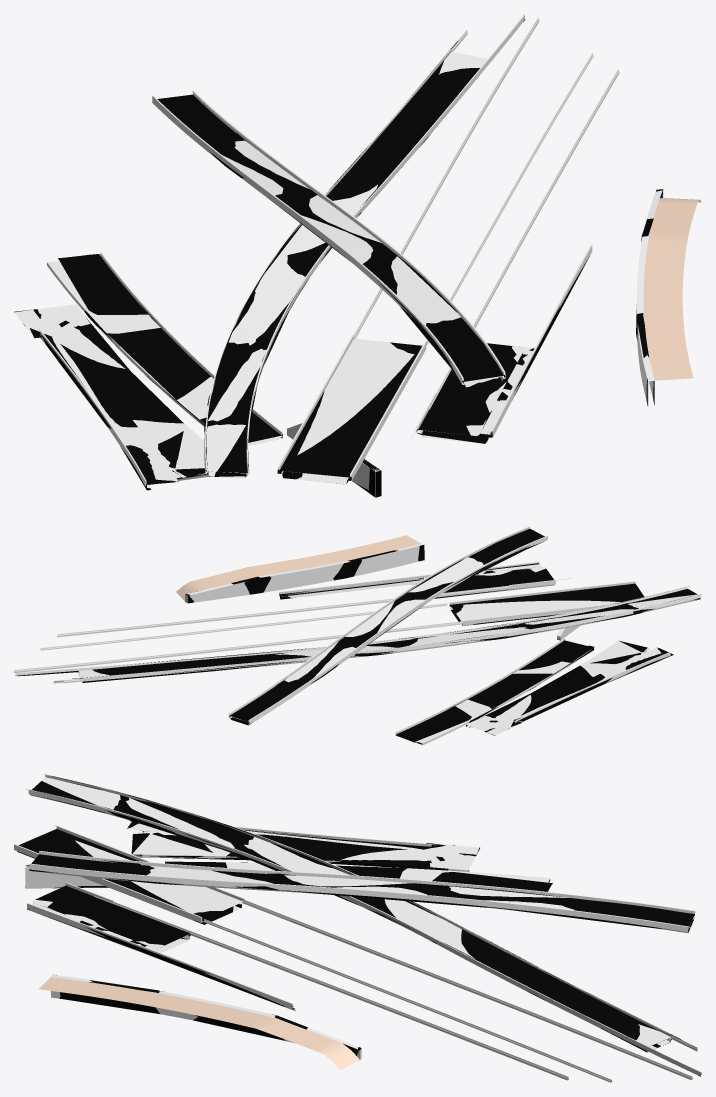
The model's file is interchangeb.dae.
3 renders of one model, top to bottom at view 1: azimuth 30°, elevation 25°; view 2: azimuth 150°, elevation 25°; view 3: azimuth 270°, elevation 25°, orthographic. The views are drawn at different scales.
Visible parts, largest first — view 1: Colmesh-1, interchangeb_a1000, interchangeb_a3000; view 2: Colmesh-1, interchangeb_a1000, interchangeb_a3000; view 3: Colmesh-1, interchangeb_a1000, interchangeb_a3000.
Part boxes in pixels (bbox=[...]): Colmesh-1: bbox=[15, 14, 701, 497]; interchangeb_a1000: bbox=[14, 19, 662, 497]; interchangeb_a3000: bbox=[39, 49, 699, 486]; Colmesh-1: bbox=[14, 526, 701, 745]; interchangeb_a1000: bbox=[15, 529, 700, 744]; interchangeb_a3000: bbox=[15, 530, 701, 734]; Colmesh-1: bbox=[14, 774, 701, 1082]; interchangeb_a1000: bbox=[17, 776, 701, 1076]; interchangeb_a3000: bbox=[26, 774, 701, 1074].
Bounding box in the file's own units: 248 × 243 × 31.13.
